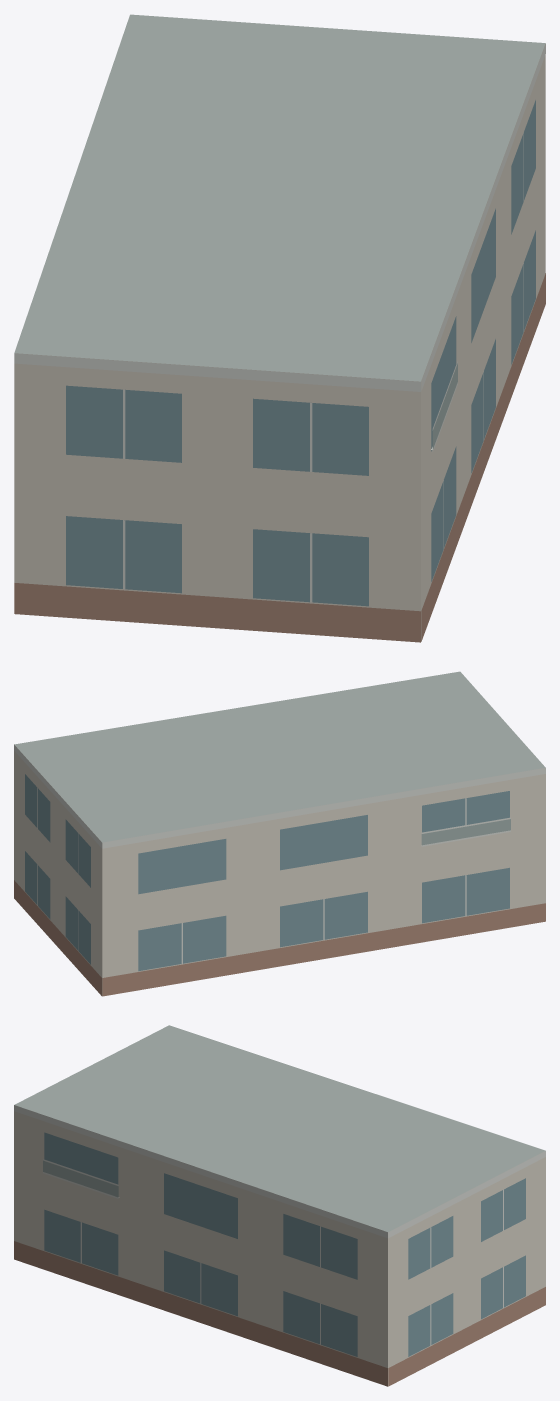
Rendered from survey-upis-32929549.glb.
3 views of the same model, one above another, from view 1: azimuth 30°, elevation 25°; view 2: azimuth 150°, elevation 25°; view 3: azimuth 270°, elevation 25° (orthographic). The views are drawn at different scales.
Parts seen in each view (by area): view 1: survey-upis-32929549.tmp; view 2: survey-upis-32929549.tmp; view 3: survey-upis-32929549.tmp.
Part boxes in pixels (box(x1,y1,x2,y2)): survey-upis-32929549.tmp: box(14, 14, 545, 642); survey-upis-32929549.tmp: box(14, 671, 545, 996); survey-upis-32929549.tmp: box(14, 1025, 545, 1386).
Bounding box in the file's own units: 17.54 × 6.1 × 19.04.
